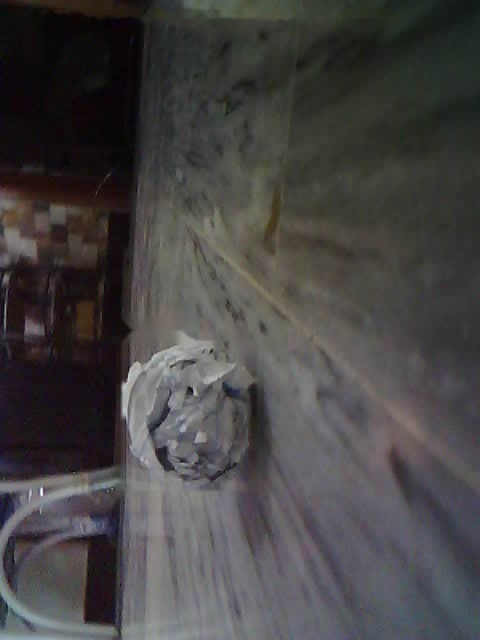paper: (115, 164, 225, 337)
